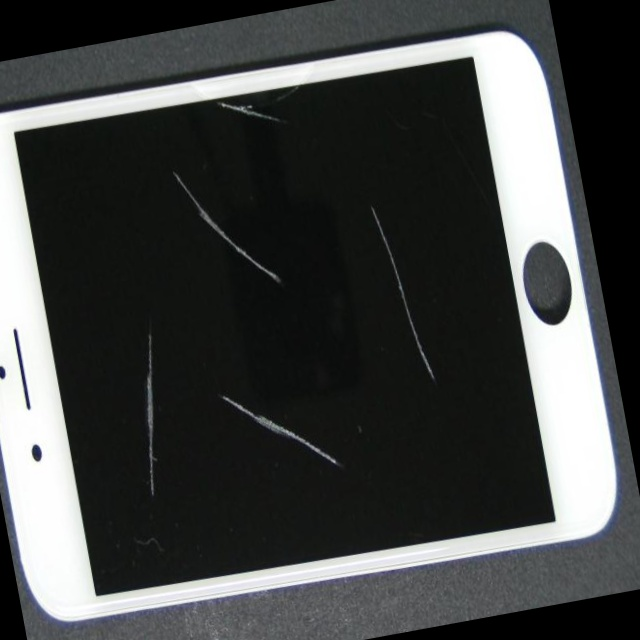scratch: (227, 246, 627, 497), (41, 89, 255, 545)
